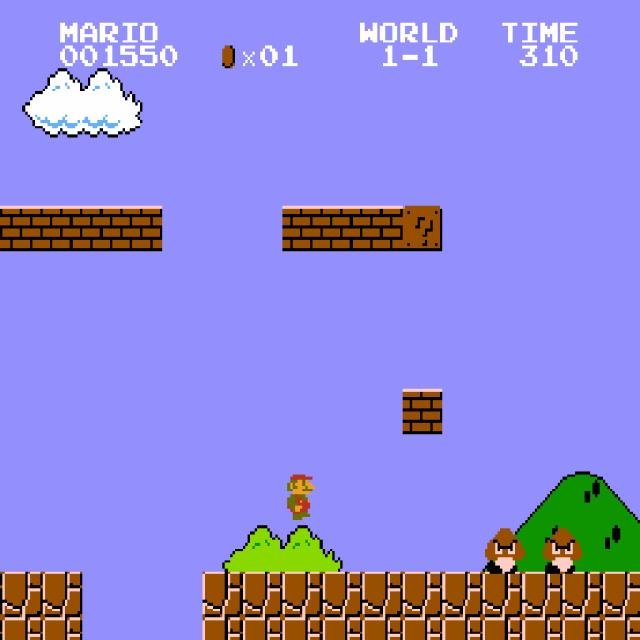brick_block: (2, 206, 43, 251), (42, 206, 83, 251), (82, 206, 123, 251), (122, 206, 163, 251), (282, 206, 323, 251), (322, 206, 363, 251), (362, 206, 403, 251), (402, 389, 443, 434), (0, 205, 2, 251)
goomba: (540, 526, 583, 574), (483, 526, 525, 574)
little_mario: (277, 472, 320, 520)
mystery_block: (402, 206, 443, 251)
undestructible_block: (2, 572, 43, 617), (42, 572, 83, 617), (202, 572, 243, 617), (242, 572, 283, 617), (282, 572, 323, 617), (322, 572, 363, 617), (362, 572, 403, 617), (402, 572, 443, 617), (442, 572, 483, 617), (482, 572, 523, 617), (522, 572, 563, 617), (562, 572, 603, 617), (603, 572, 640, 617), (2, 617, 43, 640), (42, 617, 83, 640), (202, 617, 243, 640), (242, 617, 283, 640), (282, 617, 323, 640), (322, 617, 363, 640), (362, 617, 403, 640), (402, 617, 443, 640), (442, 617, 483, 640), (482, 617, 523, 640), (522, 617, 563, 640), (562, 617, 603, 640), (603, 617, 640, 640), (0, 571, 2, 617), (0, 617, 2, 639)
